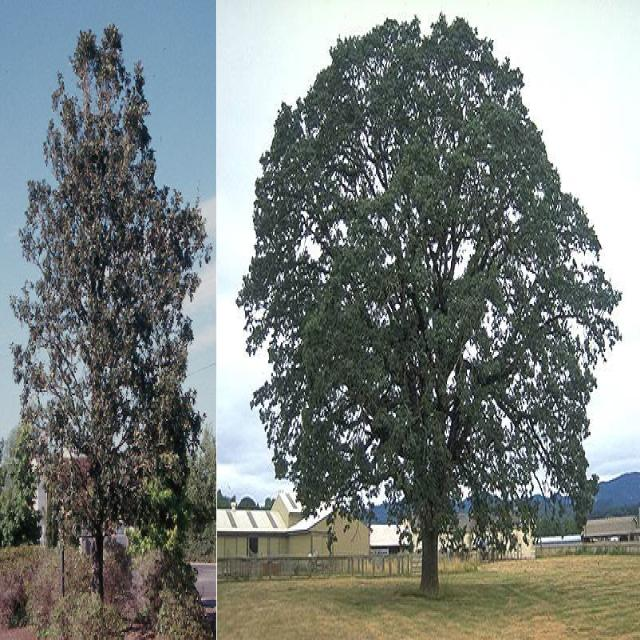Quercus garryana: (234, 9, 619, 587), (9, 22, 215, 602)
